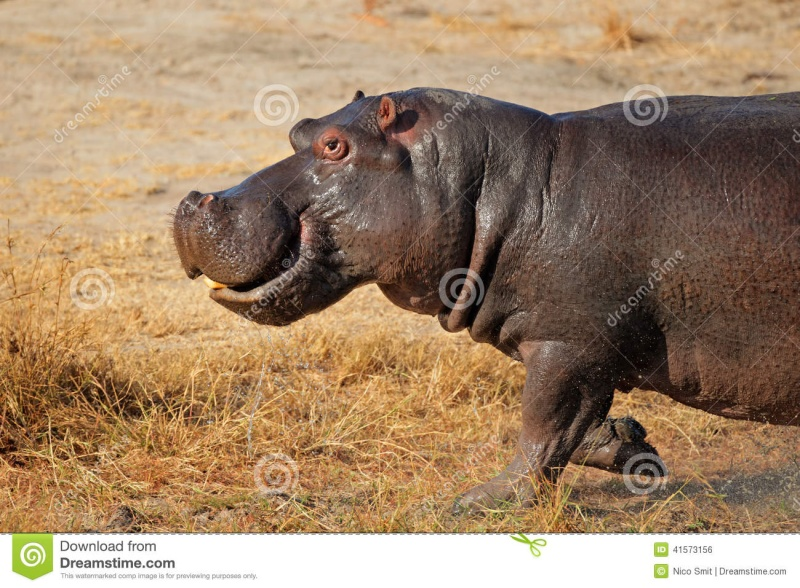hipopotamo: (163, 80, 800, 521)
